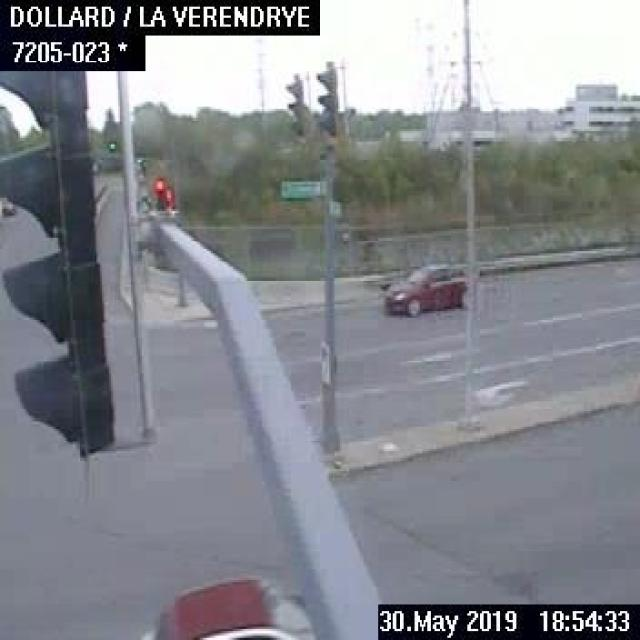vehicle: (138, 571, 311, 638), (378, 255, 466, 318), (0, 198, 20, 218)
